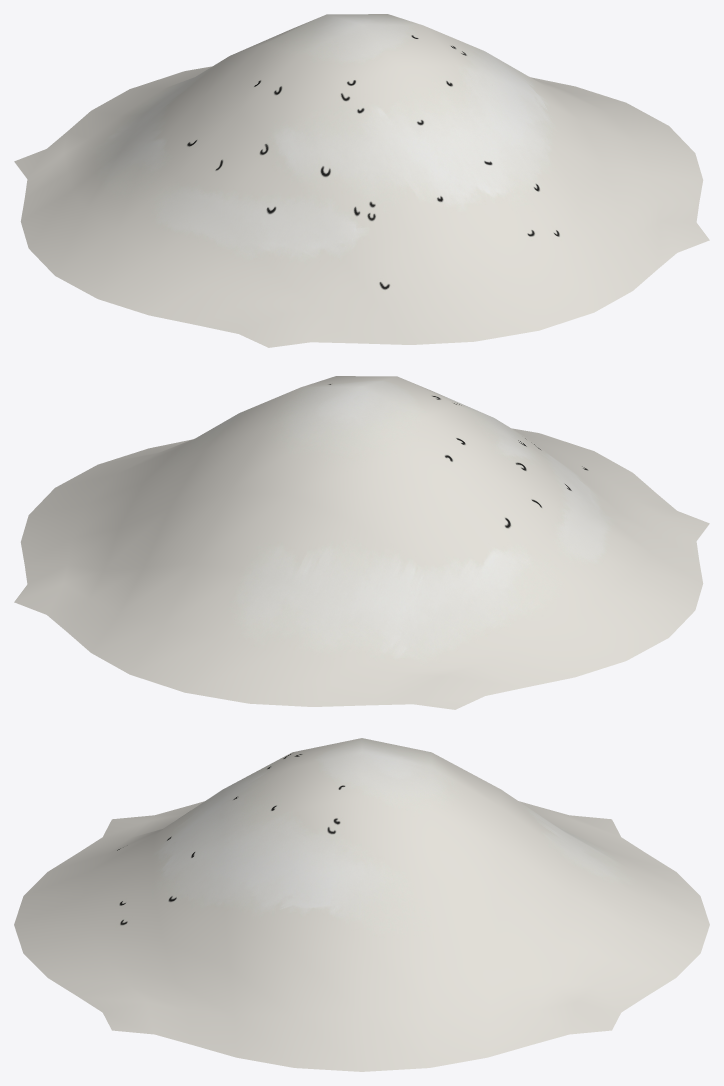
Rendered from Salt pile.fbx.
3 renders of one model, top to bottom at view 1: azimuth 30°, elevation 25°; view 2: azimuth 150°, elevation 25°; view 3: azimuth 270°, elevation 25°, orthographic.
Parts seen in each view (by area): view 1: pPlane1; view 2: pPlane1; view 3: pPlane1.
Boxes of the visible parts, x1=… form: pPlane1: x1=14, y1=14, x2=709, y2=347; pPlane1: x1=14, y1=376, x2=709, y2=709; pPlane1: x1=14, y1=738, x2=709, y2=1071.
Bounding box in the file's own units: 1 × 0.2739 × 1.
1 material, 1 textured.
